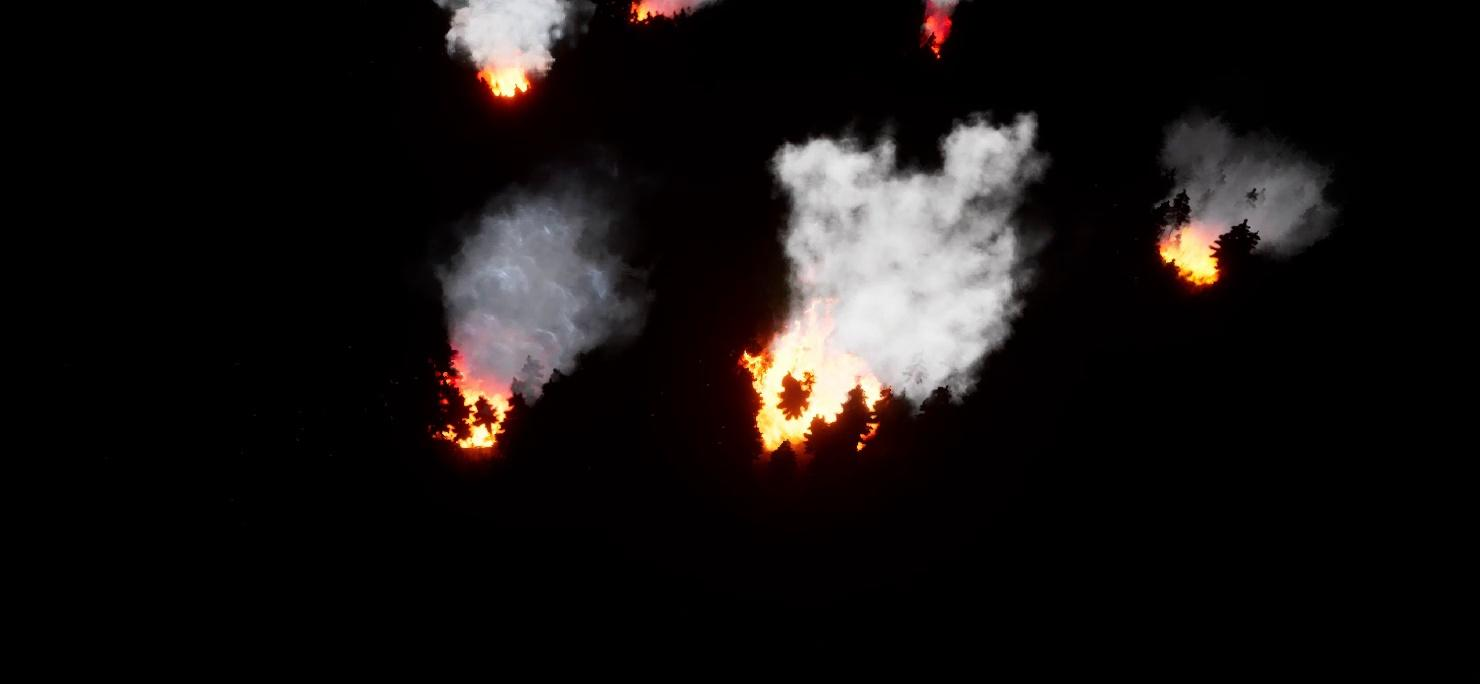fire: (737, 299, 899, 458), (427, 350, 512, 450), (1155, 227, 1235, 286), (476, 60, 535, 99), (627, 0, 699, 27), (927, 0, 955, 55)
smoke: (773, 117, 1040, 406), (442, 178, 635, 388), (1163, 106, 1340, 242), (432, 0, 578, 68)
